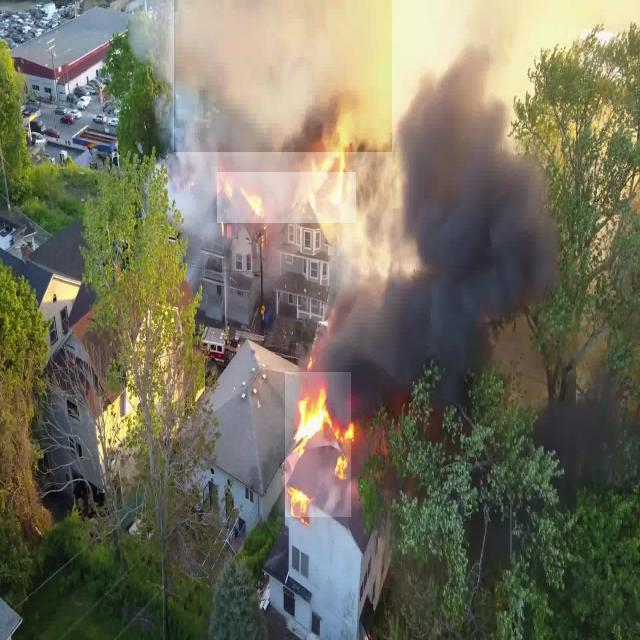Fire: (286, 372, 352, 517), (217, 172, 356, 223)
Smoke: (394, 50, 547, 393), (174, 0, 392, 152)
